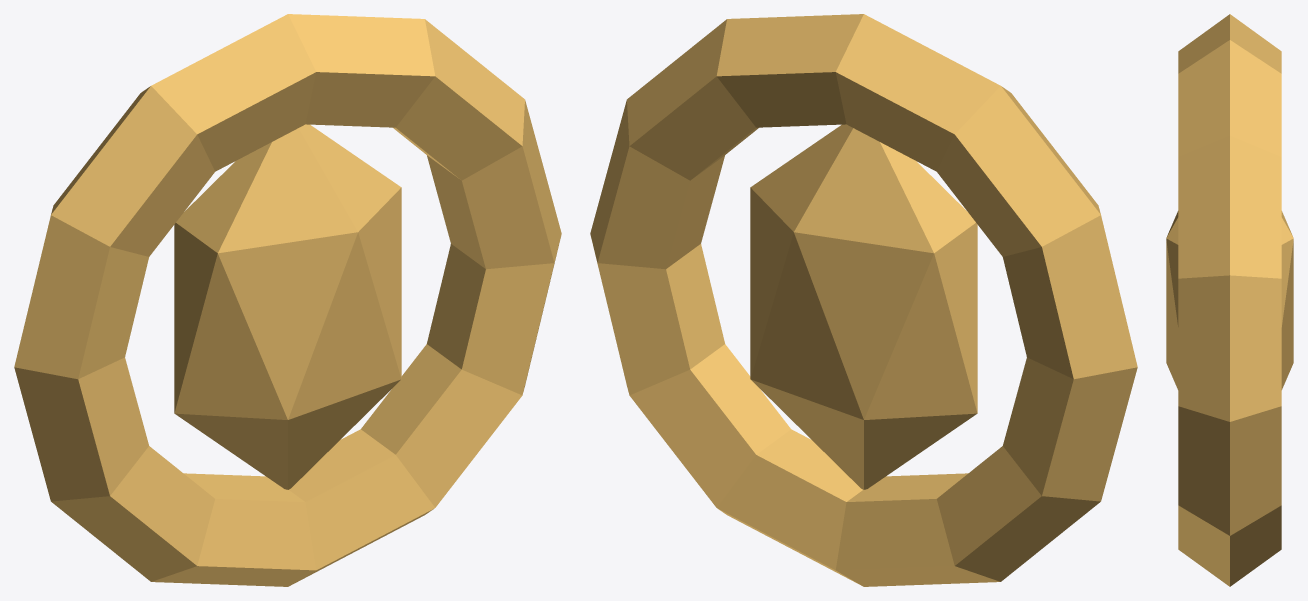
Rendered from relic.glb.
The picture shows the model from 3 angles, left to right: view 1: azimuth 30°, elevation 25°; view 2: azimuth 150°, elevation 25°; view 3: azimuth 270°, elevation 25°; orthographic projection. The views are drawn at different scales.
Parts seen in each view (by area): view 1: Relic_ring; view 2: Relic_ring; view 3: Relic_ring.
Part boxes in pixels (x1,y1,x2,y2): Relic_ring: (14, 14, 561, 586); Relic_ring: (590, 14, 1137, 586); Relic_ring: (1166, 14, 1293, 586).
Size of the model in its own units: 0.69 by 0.69 by 0.1531.
